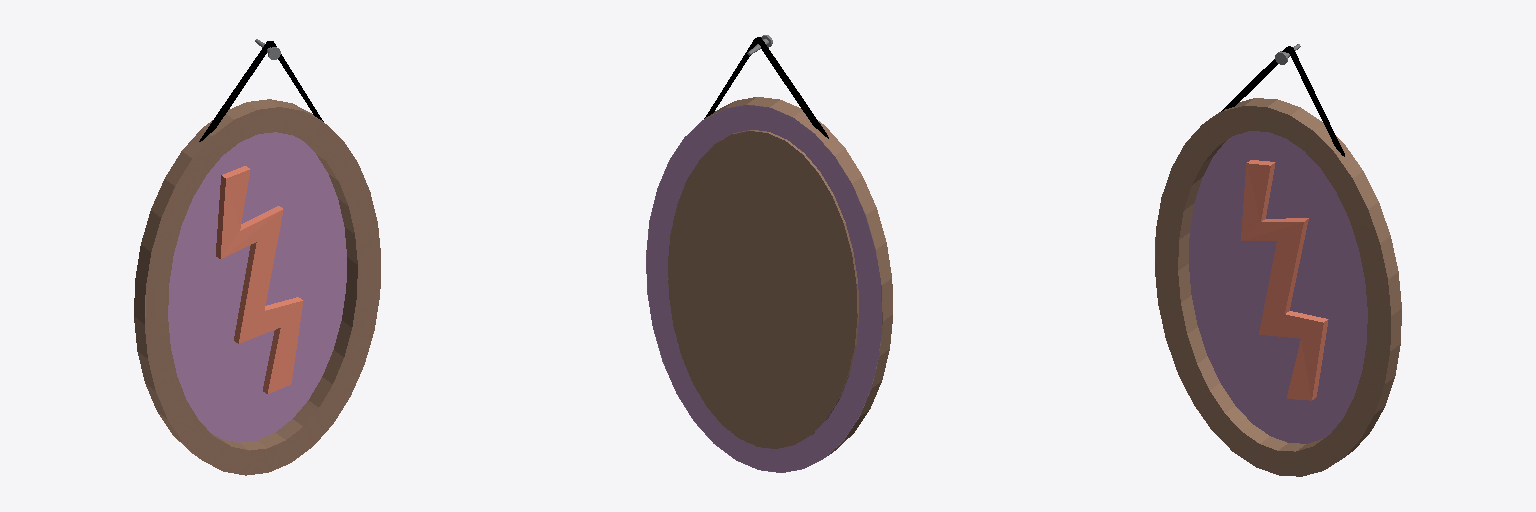
The picture shows the model from 3 angles: view 1: azimuth 30°, elevation 25°; view 2: azimuth 150°, elevation 25°; view 3: azimuth 330°, elevation 25°; orthographic projection.
Parts seen in each view (by area): view 1: CuadroRayoRocko; view 2: CuadroRayoRocko; view 3: CuadroRayoRocko.
Part boxes in pixels (x1,y1,x2,y2): CuadroRayoRocko: (134,39,380,475); CuadroRayoRocko: (646,35,892,472); CuadroRayoRocko: (1155,44,1401,476).
Bounding box in the file's own units: 0.666 × 1.14 × 0.0876.
1 materials, 1 textured.